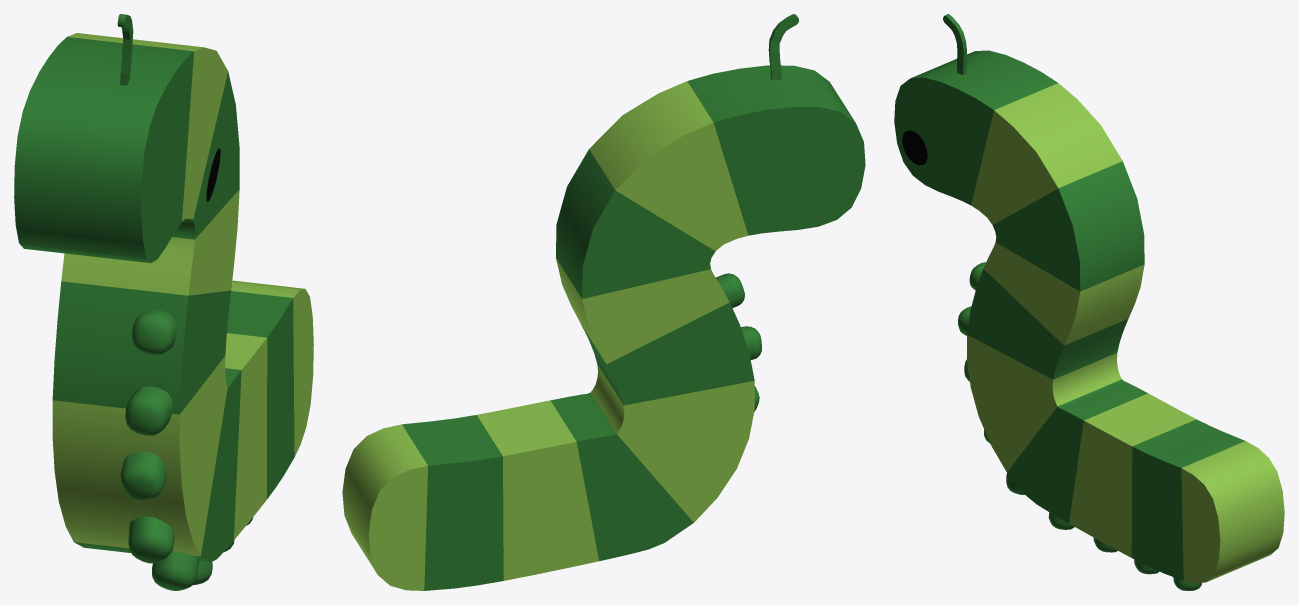
Rendered from bug.glb.
3 renders of one model, left to right at view 1: azimuth 30°, elevation 25°; view 2: azimuth 150°, elevation 25°; view 3: azimuth 270°, elevation 25°, orthographic. The views are drawn at different scales.
Visible parts, largest first — view 1: Plane.175, Cube.130; view 2: Plane.175, Cube.130; view 3: Plane.175, Cube.130, Circle.1993.
Boxes of the visible parts, box(x1,y1,x2,y2) form: Plane.175: box(14, 33, 313, 561); Cube.130: box(117, 14, 253, 590); Plane.175: box(342, 65, 865, 590); Cube.130: box(716, 14, 798, 411); Plane.175: box(894, 50, 1284, 583); Cube.130: box(943, 14, 1201, 590); Circle.1993: box(902, 130, 927, 165).
Size of the model in its own units: 1.68 by 2.24 by 1.68.
1 material, 1 textured.
